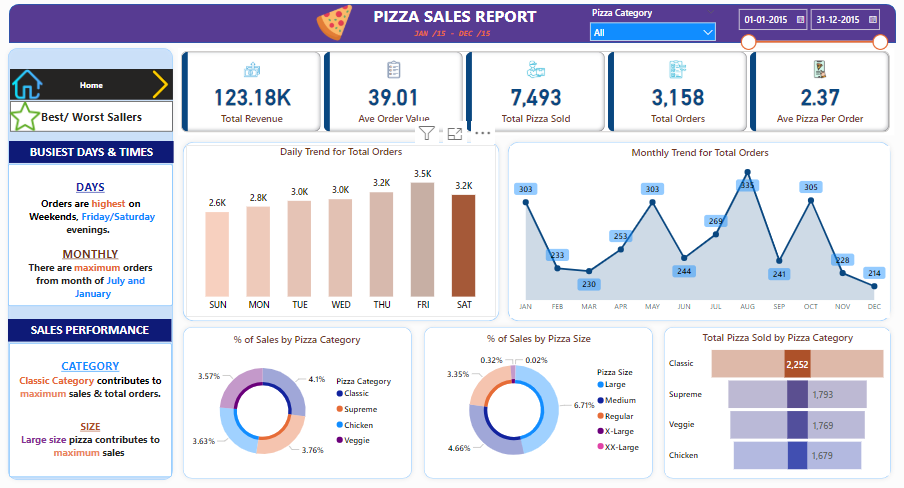

This screenshot's page, from the dashboard's own definition file:
{"tool":"powerbi","page":{"name":"Home","canvas":[1500,820],"ordinal":0},"visuals":[{"type":"shape","box":[16.7,78.3,286.7,725],"z":0},{"type":"textbox","box":[25.7,240,270,35.7],"z":1000},{"type":"cardVisual","fields":{"Data":["pizza_sales.Total Revenue","pizza_sales.Ave Order Value","pizza_sales.Total Pizza Sold","pizza_sales.Total Orders","pizza_sales.Ave Pizza Per Order"]},"box":[303.3,86.7,1175,143.3],"z":2000},{"type":"shape","box":[26.2,14.8,1454.7,64],"z":3000},{"type":"textbox","box":[603.5,9.8,300.1,49.2],"z":4000},{"type":"textbox","box":[685.5,47.6,157.4,27.9],"z":5000},{"type":"image","box":[523.2,9.8,73.8,70.5],"z":6000},{"type":"shape","box":[303.3,233.3,535,310],"z":7000},{"type":"columnChart","title":"Daily Trend for Total Orders","fields":{"Category":["pizza_sales.Order Day"],"Y":["pizza_sales.Total Orders"]},"box":[316.7,246.7,508.3,281.7],"z":8000},{"type":"shape","box":[836.7,233.3,643.3,310],"z":9000},{"type":"areaChart","title":"Monthly Trend for Total Orders","fields":{"Y":["pizza_sales.Total Orders"],"Category":["pizza_sales.Order Month"]},"box":[848.3,248.3,623.3,281.7],"z":10000},{"type":"shape","box":[303.3,536.7,391.7,265],"z":11000},{"type":"shape","box":[1091.7,536.7,388.3,265],"z":12000},{"type":"shape","box":[698.3,536.7,391.7,265],"z":13000},{"type":"donutChart","title":"% of Sales by Pizza Category","fields":{"Category":["pizza_sales.pizza_category"],"Y":["pizza_sales.Total Revenue"]},"box":[316.7,555,363.3,235],"z":14000},{"type":"donutChart","title":"% of Sales by Pizza Size","fields":{"Y":["pizza_sales.Total Revenue"],"Category":["pizza_sales.pizza_size"]},"box":[713.3,553.3,363.3,235],"z":15000},{"type":"funnel","title":"Total Pizza Sold by Pizza Category","fields":{"Y":["pizza_sales.Total Pizza Sold"],"Category":["pizza_sales.pizza_category"]},"box":[1103.3,551.7,366.7,236.7],"z":16000},{"type":"textbox","box":[25,276.7,270,233.3],"z":17000},{"type":"textbox","box":[26.7,570,266.7,220],"z":18000},{"type":"textbox","box":[25,531.7,268.3,36.7],"z":19000},{"type":"slicer","fields":{"Values":["pizza_sales.pizza_category"]},"box":[969.2,13.1,226.3,62.3],"z":20000},{"type":"multiRowCard","fields":{"Values":["pizza_sales.order_date"]},"box":[1210.3,13.1,265.7,83.6],"z":21000},{"type":"pageNavigator","box":[27.1,121.4,267.1,50],"z":22000},{"type":"pageNavigator","box":[27.1,174.3,267.1,50],"z":23000},{"type":"image","box":[246.7,118.3,56.7,56.7],"z":24000},{"type":"image","box":[26.7,116.7,60,60],"z":25000},{"type":"image","box":[20,168.3,66.7,60],"z":26000}]}

Visuals, with their boxes in screenshot pixels (x1, y1, x2, y2), scaled from the page's 1500x820 canvas onto the 904x488 screenshot:
shape: (10, 47, 183, 478)
textbox: (15, 143, 178, 164)
cardVisual - pizza_sales.Total Revenue x pizza_sales.Ave Order Value: (183, 52, 891, 137)
shape: (16, 9, 892, 47)
textbox: (364, 6, 545, 35)
textbox: (413, 28, 508, 45)
image: (315, 6, 360, 48)
shape: (183, 139, 505, 323)
"Daily Trend for Total Orders" columnChart: (191, 147, 497, 314)
shape: (504, 139, 892, 323)
"Monthly Trend for Total Orders" areaChart: (511, 148, 887, 315)
shape: (183, 319, 419, 477)
shape: (658, 319, 892, 477)
shape: (421, 319, 657, 477)
"% of Sales by Pizza Category" donutChart: (191, 330, 410, 470)
"% of Sales by Pizza Size" donutChart: (430, 329, 649, 469)
"Total Pizza Sold by Pizza Category" funnel: (665, 328, 886, 469)
textbox: (15, 165, 178, 304)
textbox: (16, 339, 177, 470)
textbox: (15, 316, 177, 338)
slicer - pizza_sales.pizza_category: (584, 8, 720, 45)
multiRowCard - pizza_sales.order_date: (729, 8, 890, 58)
pageNavigator: (16, 72, 177, 102)
pageNavigator: (16, 104, 177, 133)
image: (149, 70, 183, 104)
image: (16, 69, 52, 105)
image: (12, 100, 52, 136)
